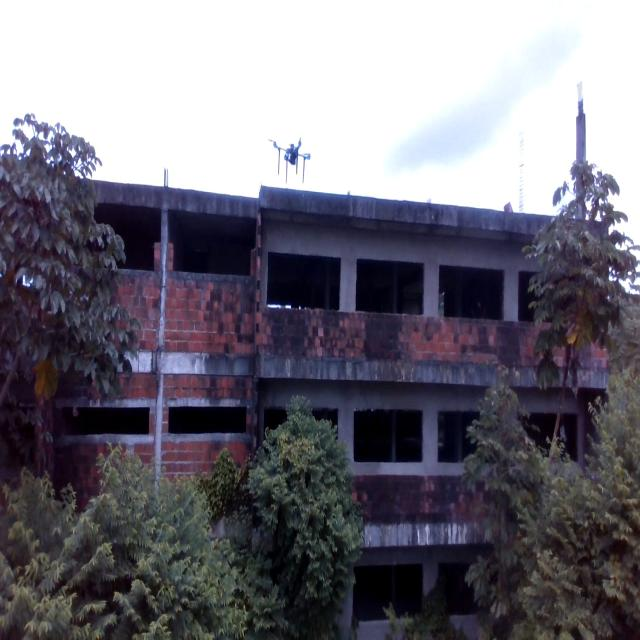-uav-: (262, 129, 320, 188)
